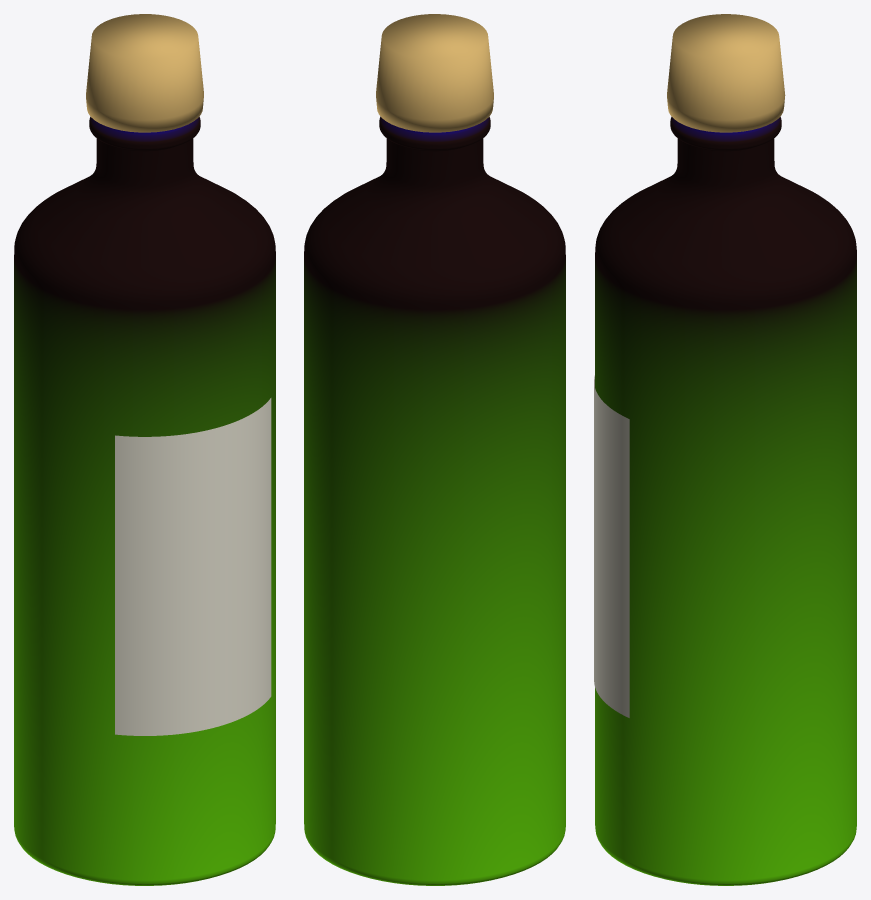
The model's file is SyrupBottle.fbx.
The picture shows the model from 3 angles, left to right: view 1: azimuth 30°, elevation 25°; view 2: azimuth 150°, elevation 25°; view 3: azimuth 270°, elevation 25°; orthographic projection.
Parts seen in each view (by area): view 1: SyrupBottle::GlassShell, SyrupBottle::OriginalLabel, SyrupBottle::Cap::CrownOrScrewCap; view 2: SyrupBottle::GlassShell, SyrupBottle::Cap::CrownOrScrewCap; view 3: SyrupBottle::GlassShell, SyrupBottle::Cap::CrownOrScrewCap, SyrupBottle::OriginalLabel.
Part boxes in pixels (x1=…): SyrupBottle::GlassShell: x1=14, y1=116, x2=275, y2=885; SyrupBottle::OriginalLabel: x1=115, y1=398, x2=271, y2=735; SyrupBottle::Cap::CrownOrScrewCap: x1=86, y1=14, x2=203, y2=132; SyrupBottle::GlassShell: x1=304, y1=116, x2=565, y2=885; SyrupBottle::Cap::CrownOrScrewCap: x1=376, y1=14, x2=493, y2=132; SyrupBottle::GlassShell: x1=595, y1=116, x2=856, y2=885; SyrupBottle::Cap::CrownOrScrewCap: x1=667, y1=14, x2=785, y2=132; SyrupBottle::OriginalLabel: x1=594, y1=375, x2=629, y2=717.
Size of the model in its own units: 7.3 by 24.5 by 7.33.
